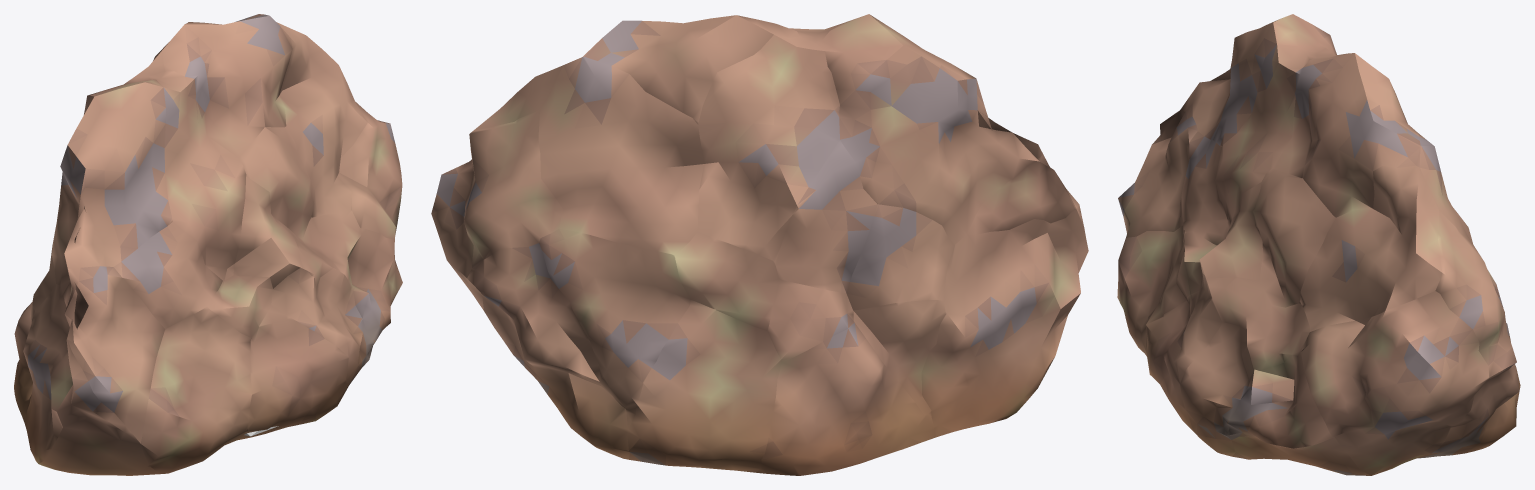
File: iron_rock_v8.glb
3 renders of one model, left to right at view 1: azimuth 30°, elevation 25°; view 2: azimuth 150°, elevation 25°; view 3: azimuth 270°, elevation 25°, orthographic. The views are drawn at different scales.
Parts seen in each view (by area): view 1: Chunk_25, Chunk_07, Chunk_04, Chunk_29, Chunk_12, Chunk_28, Chunk_21, Chunk_02, Chunk_20, Chunk_08, Chunk_26, Chunk_23 (+8 smaller); view 2: Chunk_25, Chunk_04, Chunk_24, Chunk_27, Chunk_06, Chunk_01, Chunk_11, Chunk_03, Chunk_29, Chunk_16, Chunk_22, Chunk_17 (+6 smaller); view 3: Chunk_08, Chunk_21, Chunk_29, Chunk_00, Chunk_28, Chunk_26, Chunk_25, Chunk_05, Chunk_12, Chunk_07, Chunk_16, Chunk_03 (+8 smaller).
Boxes of the visible parts, x1,y1,x2,y2 form: Chunk_25: (52,76,172,285); Chunk_07: (141,307,251,473); Chunk_04: (23,284,160,475); Chunk_29: (162,14,292,157); Chunk_12: (60,266,165,443); Chunk_28: (149,71,246,280); Chunk_21: (277,22,367,217); Chunk_02: (238,306,348,439); Chunk_20: (114,222,222,328); Chunk_08: (337,101,402,261); Chunk_26: (238,126,314,244); Chunk_23: (233,174,301,288); Chunk_25: (816,14,1042,244); Chunk_04: (921,208,1088,437); Chunk_24: (538,56,703,255); Chunk_27: (697,34,839,261); Chunk_06: (627,300,781,472); Chunk_01: (758,321,936,475); Chunk_11: (539,228,690,428); Chunk_03: (467,243,640,461); Chunk_29: (583,15,799,124); Chunk_16: (464,110,563,267); Chunk_22: (774,140,877,293); Chunk_17: (846,204,954,310); Chunk_08: (1301,291,1488,475); Chunk_21: (1300,165,1442,331); Chunk_29: (1273,53,1420,217); Chunk_00: (1227,350,1370,475); Chunk_28: (1216,44,1317,231); Chunk_26: (1254,168,1335,307); Chunk_25: (1191,14,1336,146); Chunk_05: (1179,322,1253,457); Chunk_12: (1118,94,1197,237); Chunk_07: (1117,225,1186,356); Chunk_16: (1435,211,1505,365); Chunk_03: (1408,318,1519,461).
Bounding box in the file's own units: 3.22 × 2.41 × 2.42.
